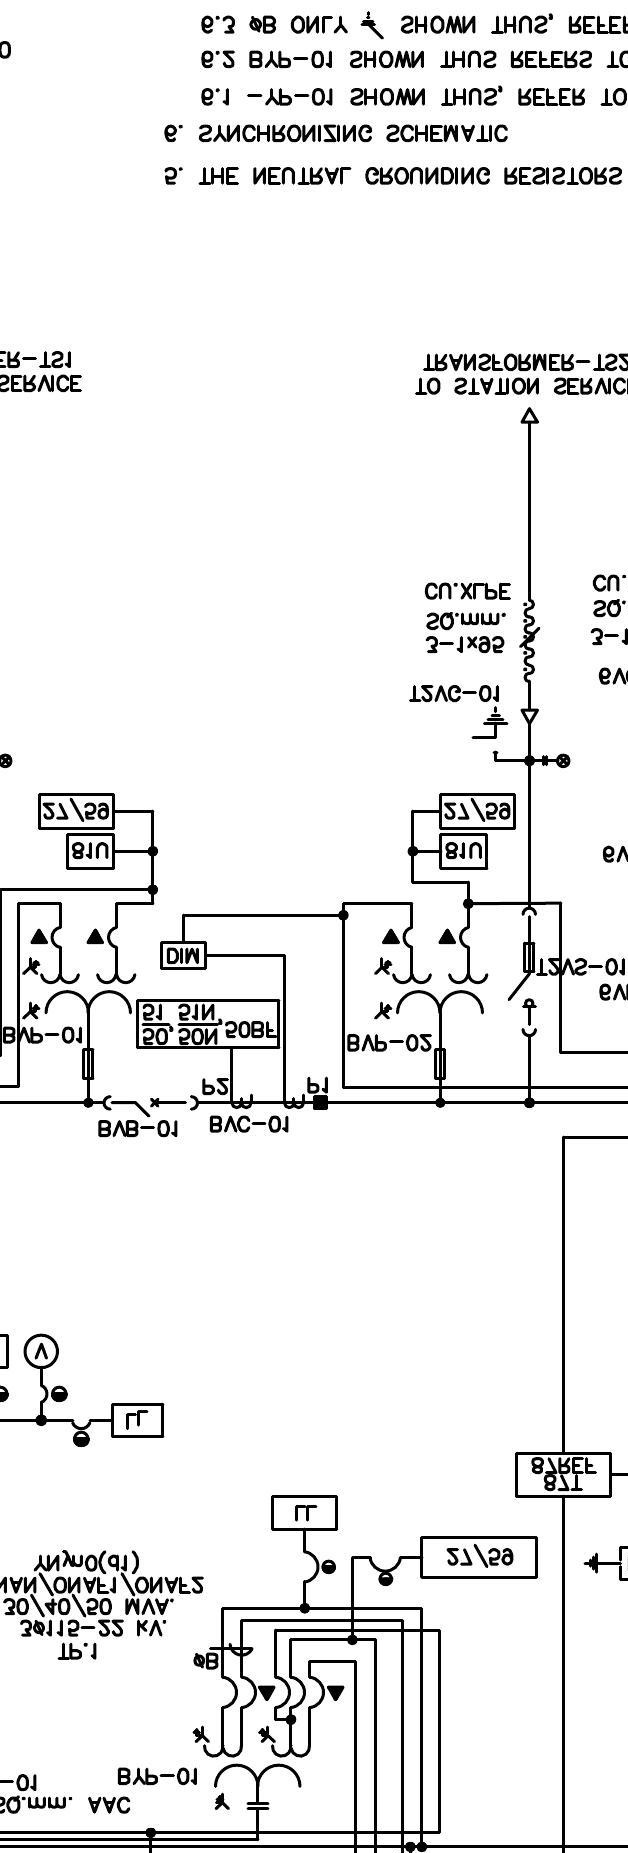115_cvt_3p: (192, 1725, 312, 1810)
22_breaker: (103, 1094, 200, 1118)
22_ds: (507, 906, 538, 1038)
22_gs: (471, 706, 510, 754)
22_ll: (542, 753, 571, 768)
22_vt_3p: (373, 925, 490, 1081), (21, 925, 137, 1081)
DIM: (160, 941, 207, 970)
LL: (271, 1495, 338, 1532), (111, 1403, 164, 1438)
terminator_single: (520, 407, 539, 424), (520, 708, 539, 724)
v_m: (22, 1333, 60, 1370)
